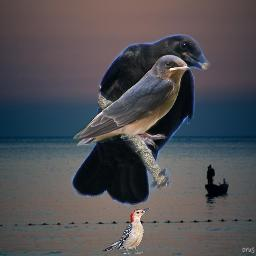Crow: (71, 34, 211, 207)
Swallow: (72, 54, 191, 150)
Woodpecker: (99, 207, 151, 254)
